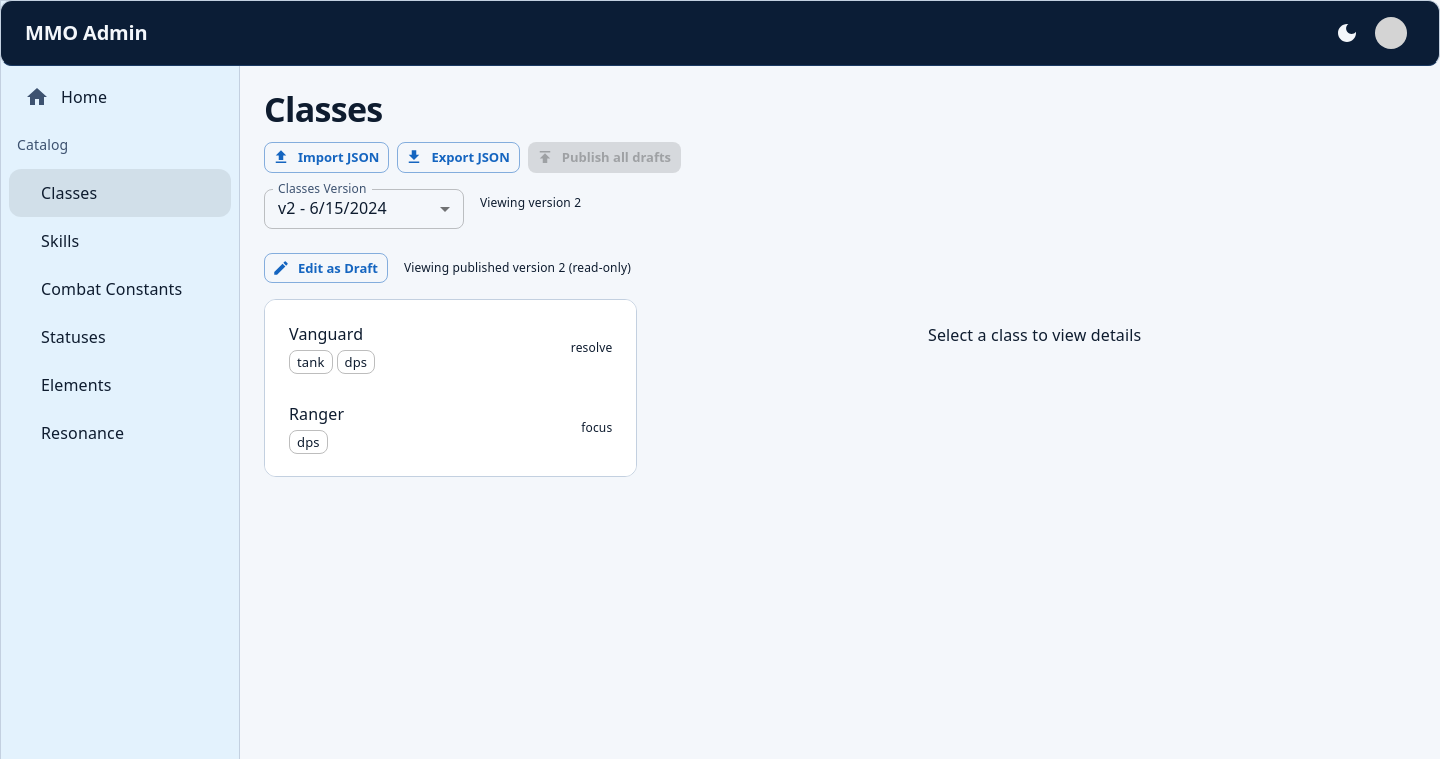
Test: Draft Editing and Publishing › Add and delete draft entries (MMO-25) › does not offer add or delete on combat-constants
Click the link "Combat Constants" at coordinates (112, 289), box [41,278,182,300]
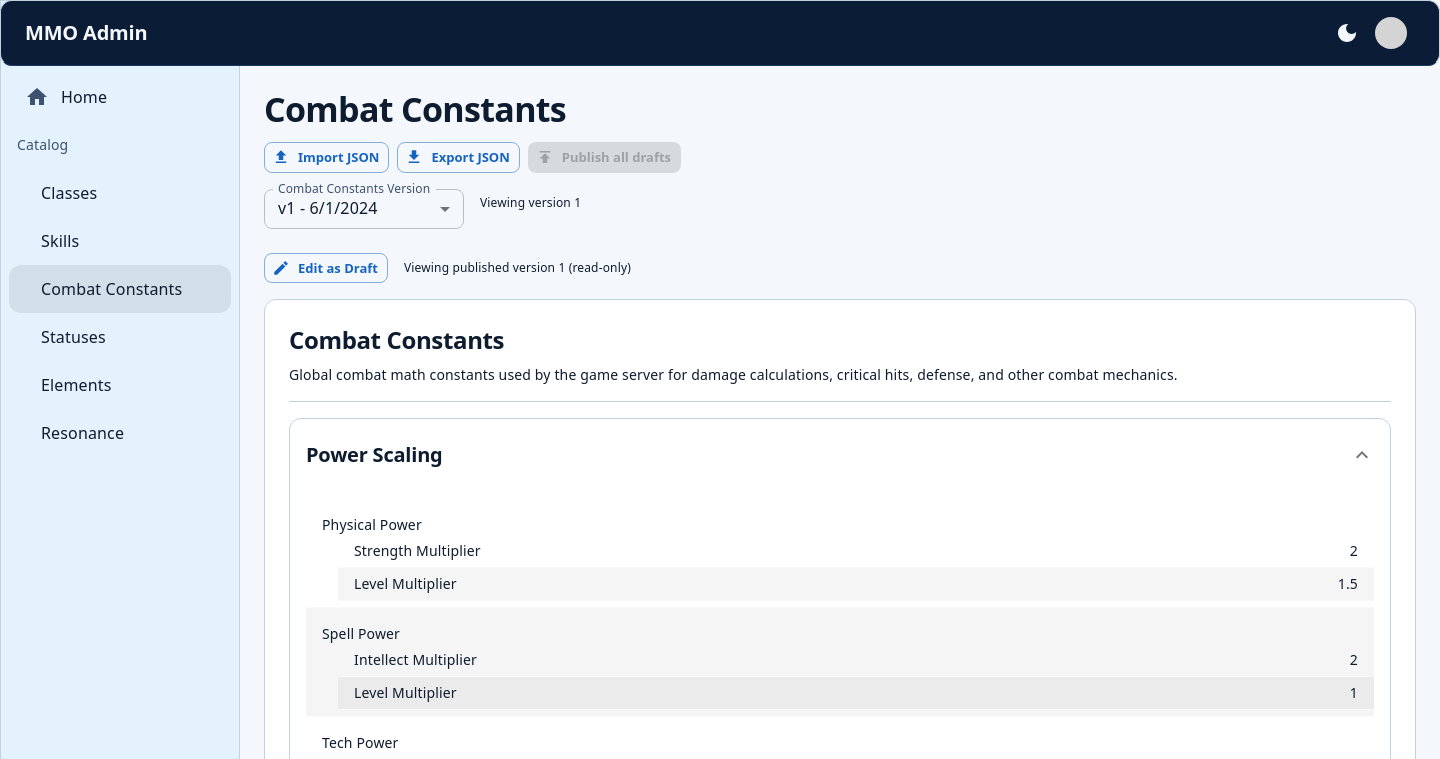
Click the dropdown at coordinates (328, 208), box [278,197,378,219]
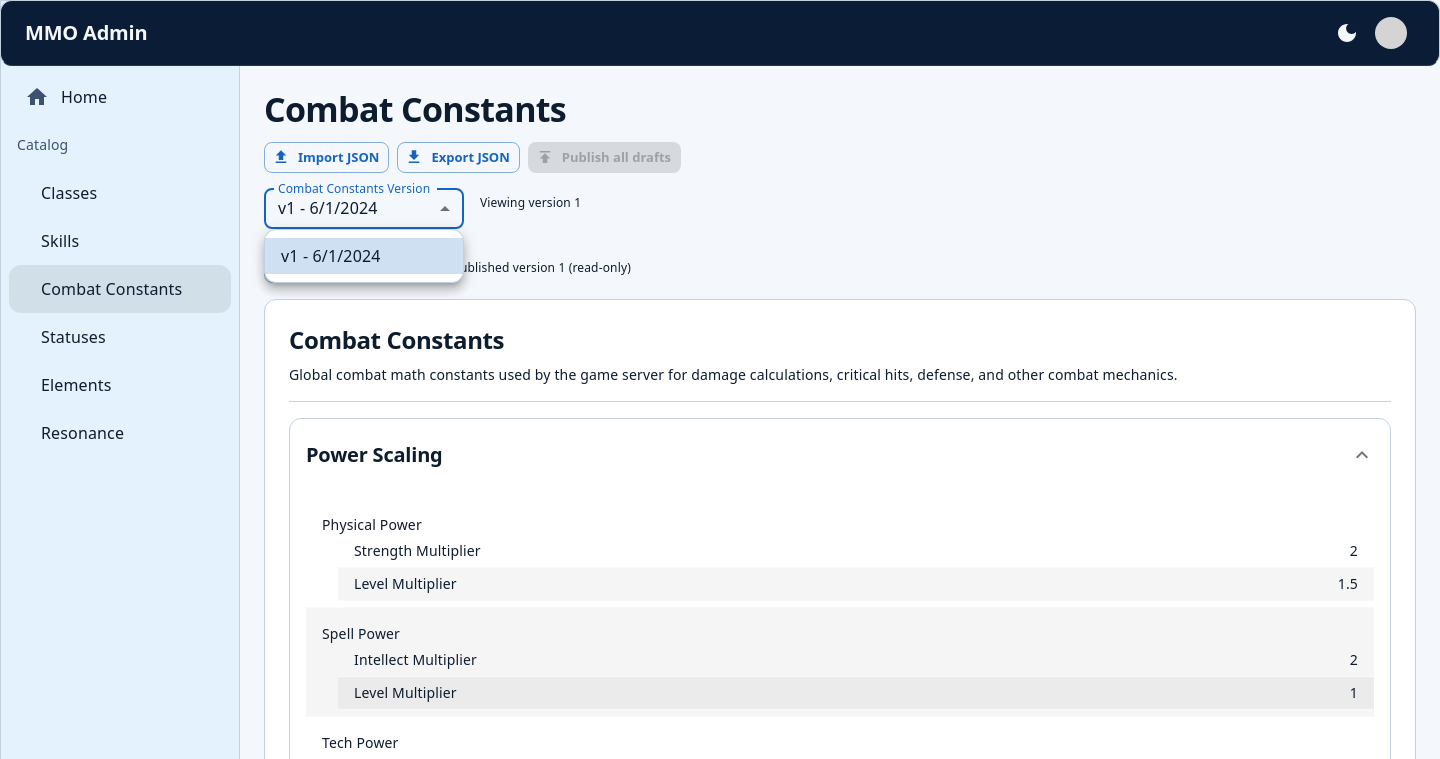
Click the option "v1 - 6/1/2024" at coordinates (364, 256), box [265,238,463,274]
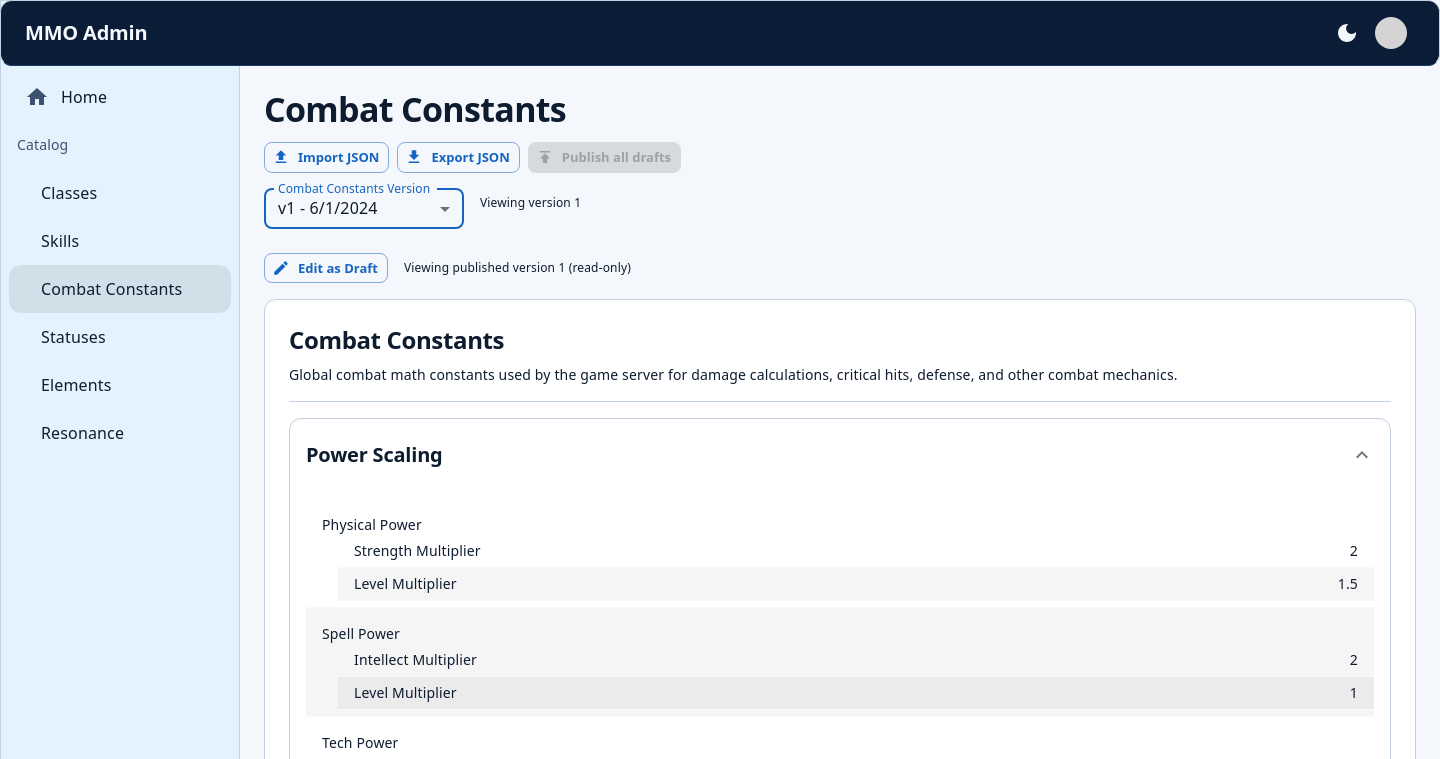
Click the button "Edit as Draft" at coordinates (326, 268), box [264,253,388,283]
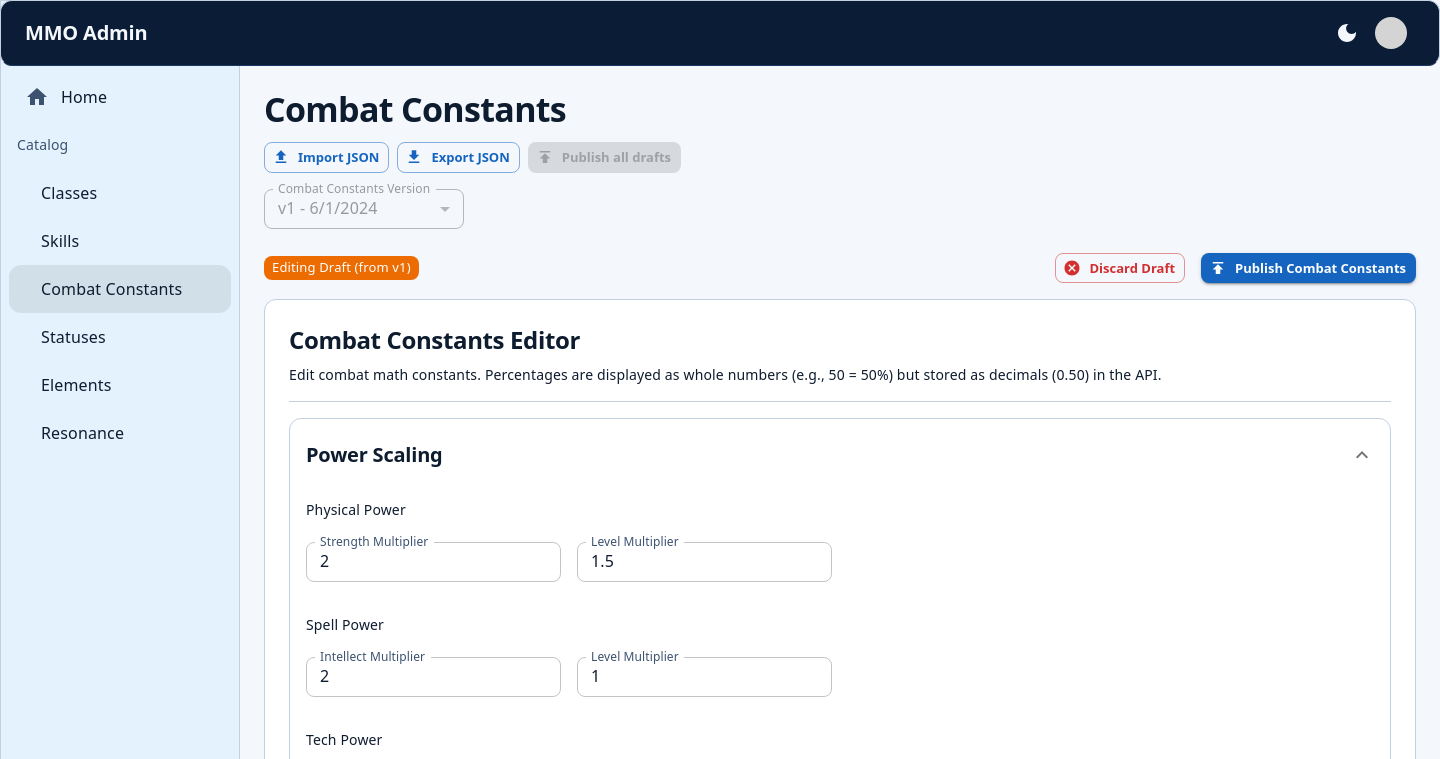
Expected: the text "Editing Draft (from v1)" is shown, [264,258,419,278]
